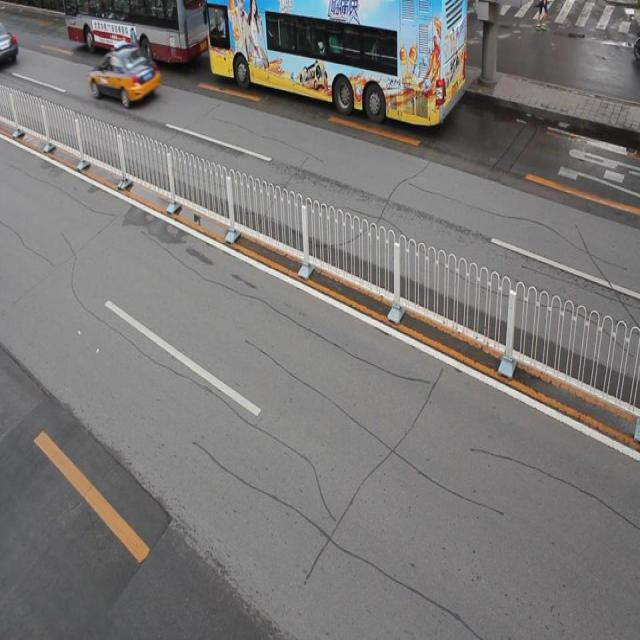car: (89, 42, 163, 107)
van: (207, 1, 466, 134), (65, 1, 210, 70)
